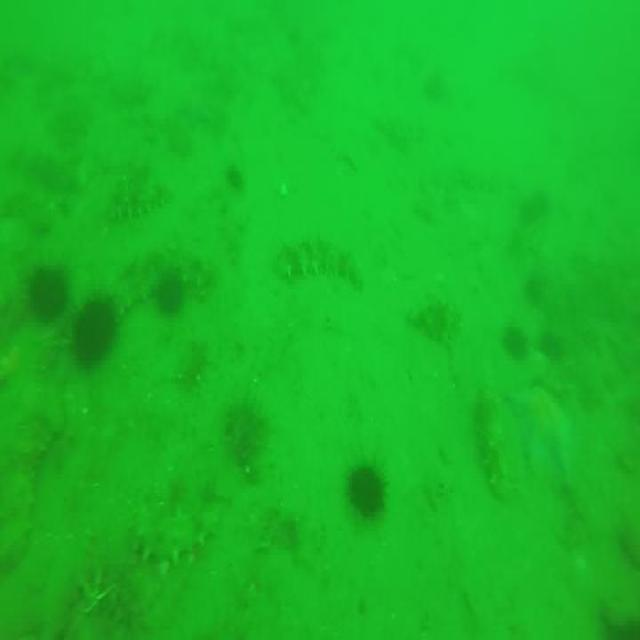echinus: (74, 286, 115, 370), (350, 463, 390, 526), (26, 261, 66, 322), (156, 272, 188, 322), (506, 324, 532, 359)
holothurian: (0, 407, 60, 564), (266, 234, 365, 305), (122, 504, 217, 563), (476, 378, 511, 496), (108, 175, 178, 223)
starfish: (510, 384, 580, 480)
